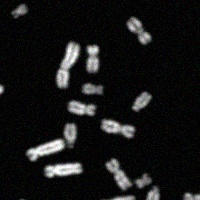chromosome: (57, 41, 79, 88), (106, 159, 132, 191), (27, 139, 65, 160), (126, 15, 151, 45), (102, 119, 134, 139), (43, 163, 83, 177), (67, 100, 95, 116), (131, 92, 152, 112), (86, 45, 97, 73), (65, 123, 77, 148), (81, 82, 104, 95), (145, 184, 160, 200), (136, 172, 151, 187), (98, 195, 135, 200), (12, 4, 25, 18), (182, 192, 200, 200), (0, 83, 3, 110), (0, 199, 27, 200)
